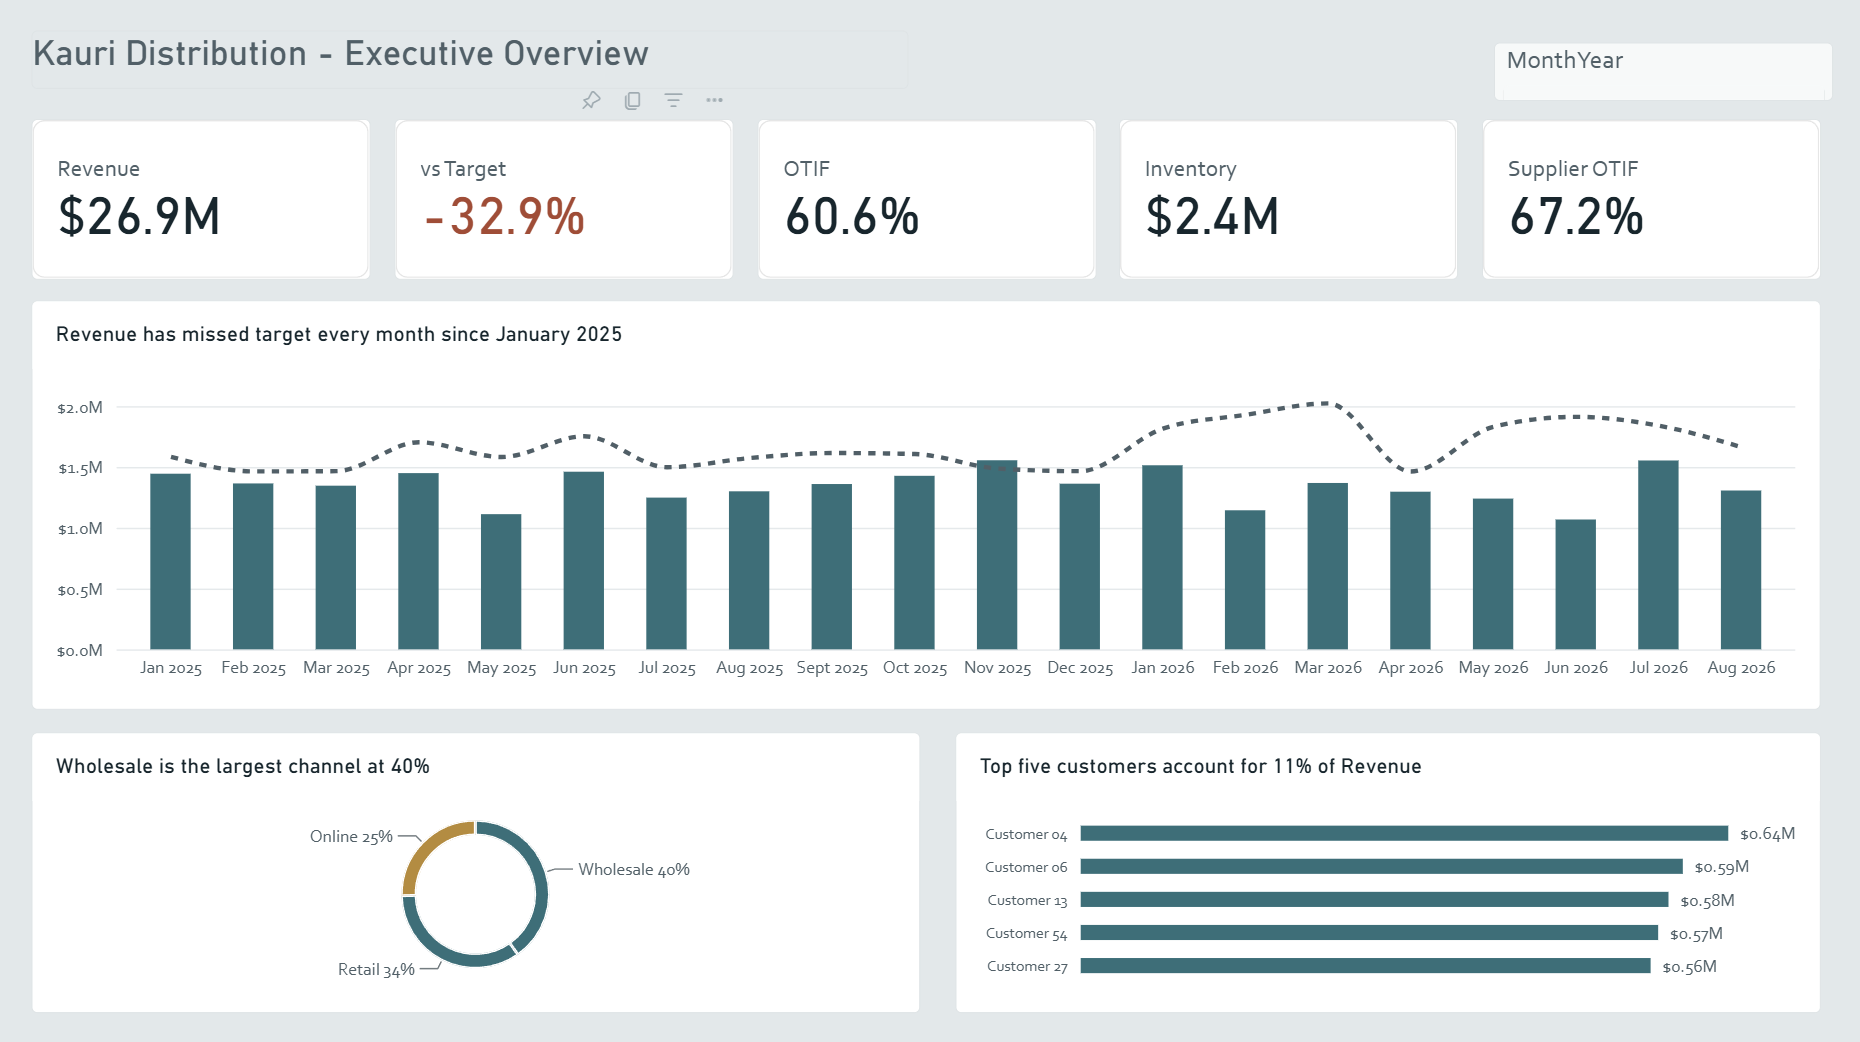

What the dashboard file says about the page in this screenshot:
{"tool":"powerbi","page":{"name":"Executive Overview","canvas":[1280,720],"ordinal":0},"visuals":[{"type":"cardVisual","fields":{"Data":["_Measures.Revenue"]},"box":[24,84,232,110],"z":0},{"type":"cardVisual","fields":{"Data":["_Measures.Revenue vs Target %"]},"box":[272,84,232,110],"z":1000},{"type":"cardVisual","fields":{"Data":["_Measures.OTIF %"]},"box":[520,84,232,110],"z":2000},{"type":"cardVisual","fields":{"Data":["_Measures.Inventory Value"]},"box":[768,84,232,110],"z":3000},{"type":"cardVisual","fields":{"Data":["_Measures.Supplier OTIF %"]},"box":[1016,84,232,110],"z":4000},{"type":"textbox","box":[24,24,600,40],"z":5000},{"type":"lineClusteredColumnComboChart","title":"Revenue has missed target every month since January 2025","fields":{"Category":["DimDate.MonthYear"],"Y":["_Measures.Revenue"],"Y2":["_Measures.Target Revenue"]},"box":[24,208,1224,280],"z":6000},{"type":"donutChart","title":"Wholesale is the largest channel at 40%","fields":{"Category":["DimChannel.Channel"],"Y":["_Measures.Revenue"]},"box":[24,504,608,192],"z":7000},{"type":"clusteredBarChart","title":"Top five customers account for 11% of Revenue","fields":{"Category":["DimCustomer.CustomerName"],"Y":["_Measures.Revenue"]},"box":[656,504,592,192],"z":8000},{"type":"slicer","fields":{"Values":["DimDate.MonthYear"]},"box":[1024,32,232,40],"z":9000}]}

Visuals, with their boxes in screenshot pixels (x1, y1, x2, y2), scaled from the page's 1280x720 canvas onto the 1860x1042 screenshot:
cardVisual - _Measures.Revenue: (x1=35, y1=122, x2=372, y2=281)
cardVisual - _Measures.Revenue vs Target %: (x1=395, y1=122, x2=732, y2=281)
cardVisual - _Measures.OTIF %: (x1=756, y1=122, x2=1093, y2=281)
cardVisual - _Measures.Inventory Value: (x1=1116, y1=122, x2=1453, y2=281)
cardVisual - _Measures.Supplier OTIF %: (x1=1476, y1=122, x2=1814, y2=281)
textbox: (x1=35, y1=35, x2=907, y2=93)
"Revenue has missed target every month since January 2025" lineClusteredColumnComboChart: (x1=35, y1=301, x2=1814, y2=706)
"Wholesale is the largest channel at 40%" donutChart: (x1=35, y1=729, x2=918, y2=1007)
"Top five customers account for 11% of Revenue" clusteredBarChart: (x1=953, y1=729, x2=1814, y2=1007)
slicer - DimDate.MonthYear: (x1=1488, y1=46, x2=1825, y2=104)
